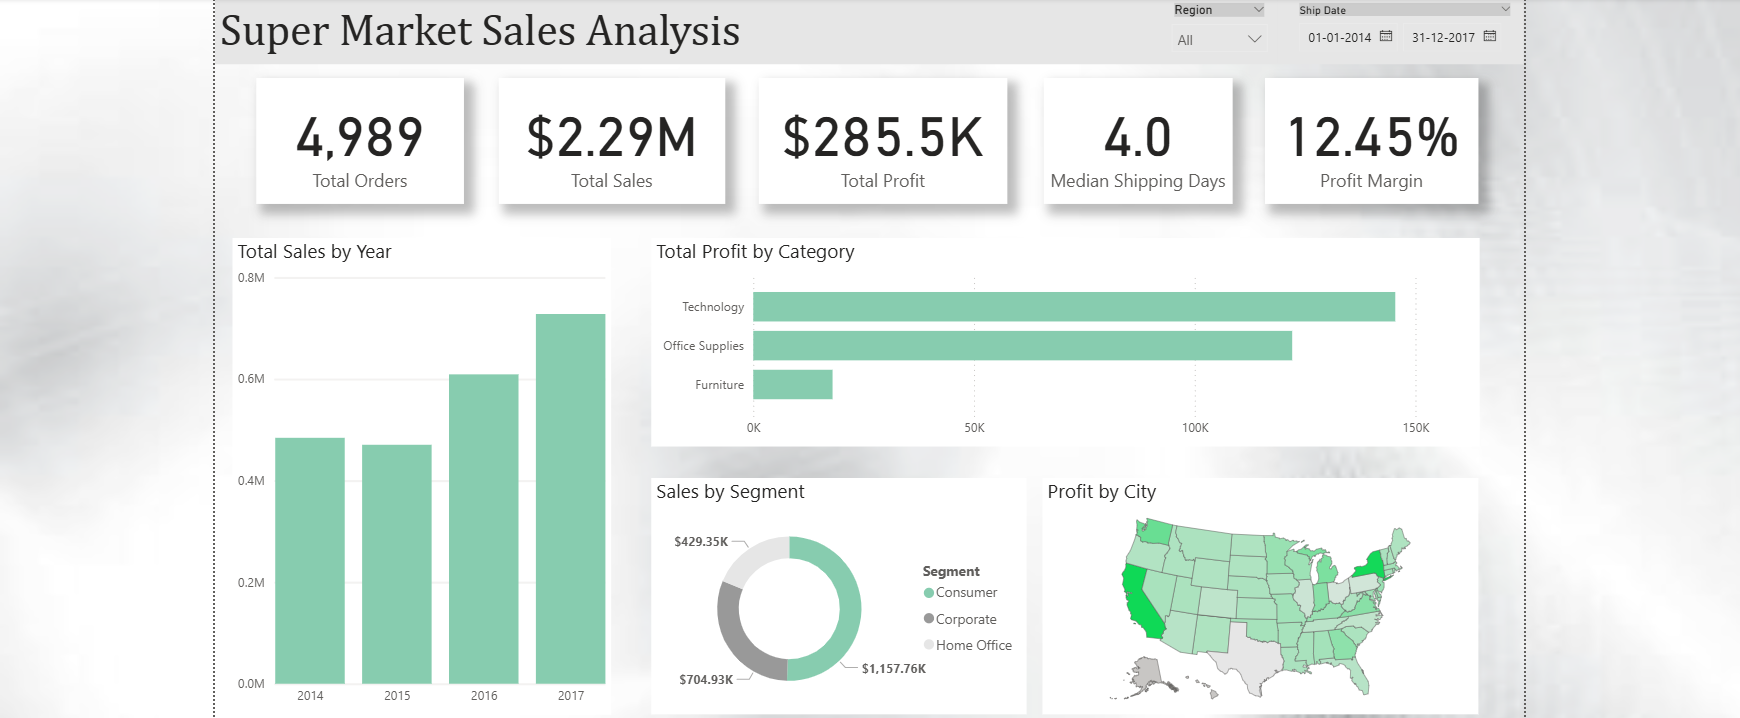

Layout of this report page (visuals, bound fields, positions):
{"tool":"powerbi","page":{"name":"Page 1","canvas":[1280,720],"ordinal":0},"visuals":[{"type":"card","fields":{"Values":["SuperMarket Table.Total Sales"]},"box":[277.1,78.5,221.3,123.5],"z":0},{"type":"card","fields":{"Values":["SuperMarket Table.Total Profit"]},"box":[531.4,78.5,243.3,123.5],"z":1000},{"type":"card","fields":{"Values":["SuperMarket Table.Median Shipping Days"]},"box":[810.2,78.5,184.6,123.5],"z":2000},{"type":"card","fields":{"Values":["SuperMarket Table.Profit Margin"]},"box":[1027.6,78.5,208.6,123.5],"z":3000},{"type":"card","fields":{"Values":["SuperMarket Table.Total Orders"]},"box":[40.9,78.5,203.1,123.5],"z":4000},{"type":"textbox","box":[0,0,1280.3,64.8],"z":5000},{"type":"donutChart","title":"Sales by Segment","fields":{"Category":["SuperMarket Table.Segment"],"Y":["Sum(SuperMarket Table.Sales)"]},"box":[426.2,470,367.5,231.2],"z":6000},{"type":"clusteredColumnChart","title":"Total Sales by Year","fields":{"Category":["SuperMarket Table.Order Date.Variation.Date Hierarchy.Year","SuperMarket Table.Order Date.Variation.Date Hierarchy.Month"],"Y":["Sum(SuperMarket Table.Sales)"]},"box":[17.5,235,370,466.2],"z":7000},{"type":"clusteredBarChart","title":"Total Profit by Category","fields":{"Category":["SuperMarket Table.Category"],"Y":["Sum(SuperMarket Table.Profit)"]},"box":[426.2,235,810,203.8],"z":8000},{"type":"shapeMap","title":"Profit by City","fields":{"Value":["Sum(SuperMarket Table.Profit)"],"Category":["SuperMarket Table.State"]},"box":[810,470,426.2,231.2],"z":9000},{"type":"slicer","fields":{"Values":["SuperMarket Table.Ship Date"]},"box":[1048,0,232.3,63.6],"z":9001},{"type":"slicer","fields":{"Values":["SuperMarket Table.Region"]},"box":[925.7,0,113.7,63.6],"z":9002}]}

Visuals, with their boxes on the page's 1280x720 design canvas (x1, y1, x2, y2). These are canvas units, not pixel positions in the 1740x718 screenshot, which may show the page scaled, cropped or inside an application window:
card - SuperMarket Table.Total Sales: bbox(277, 78, 498, 202)
card - SuperMarket Table.Total Profit: bbox(531, 78, 775, 202)
card - SuperMarket Table.Median Shipping Days: bbox(810, 78, 995, 202)
card - SuperMarket Table.Profit Margin: bbox(1028, 78, 1236, 202)
card - SuperMarket Table.Total Orders: bbox(41, 78, 244, 202)
textbox: bbox(0, 0, 1280, 65)
"Sales by Segment" donutChart: bbox(426, 470, 794, 701)
"Total Sales by Year" clusteredColumnChart: bbox(18, 235, 388, 701)
"Total Profit by Category" clusteredBarChart: bbox(426, 235, 1236, 439)
"Profit by City" shapeMap: bbox(810, 470, 1236, 701)
slicer - SuperMarket Table.Ship Date: bbox(1048, 0, 1280, 64)
slicer - SuperMarket Table.Region: bbox(926, 0, 1039, 64)
